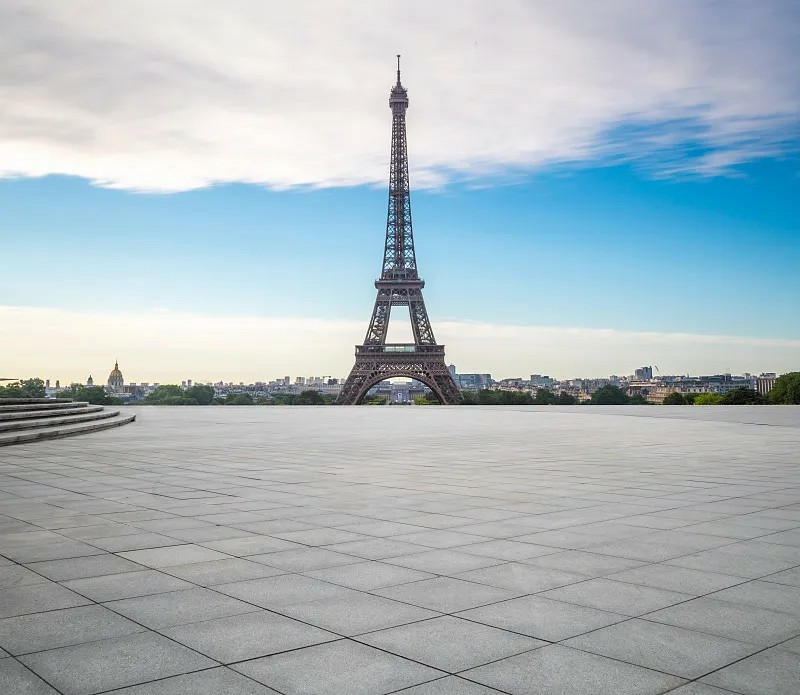Eiffel: (334, 55, 464, 405)
